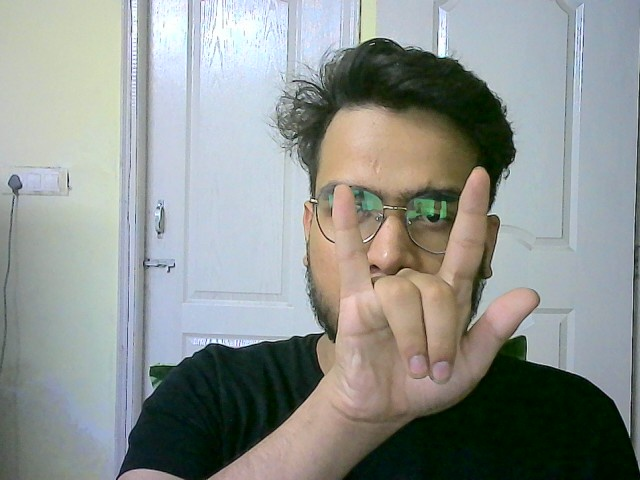I Love You: (328, 163, 541, 418)
